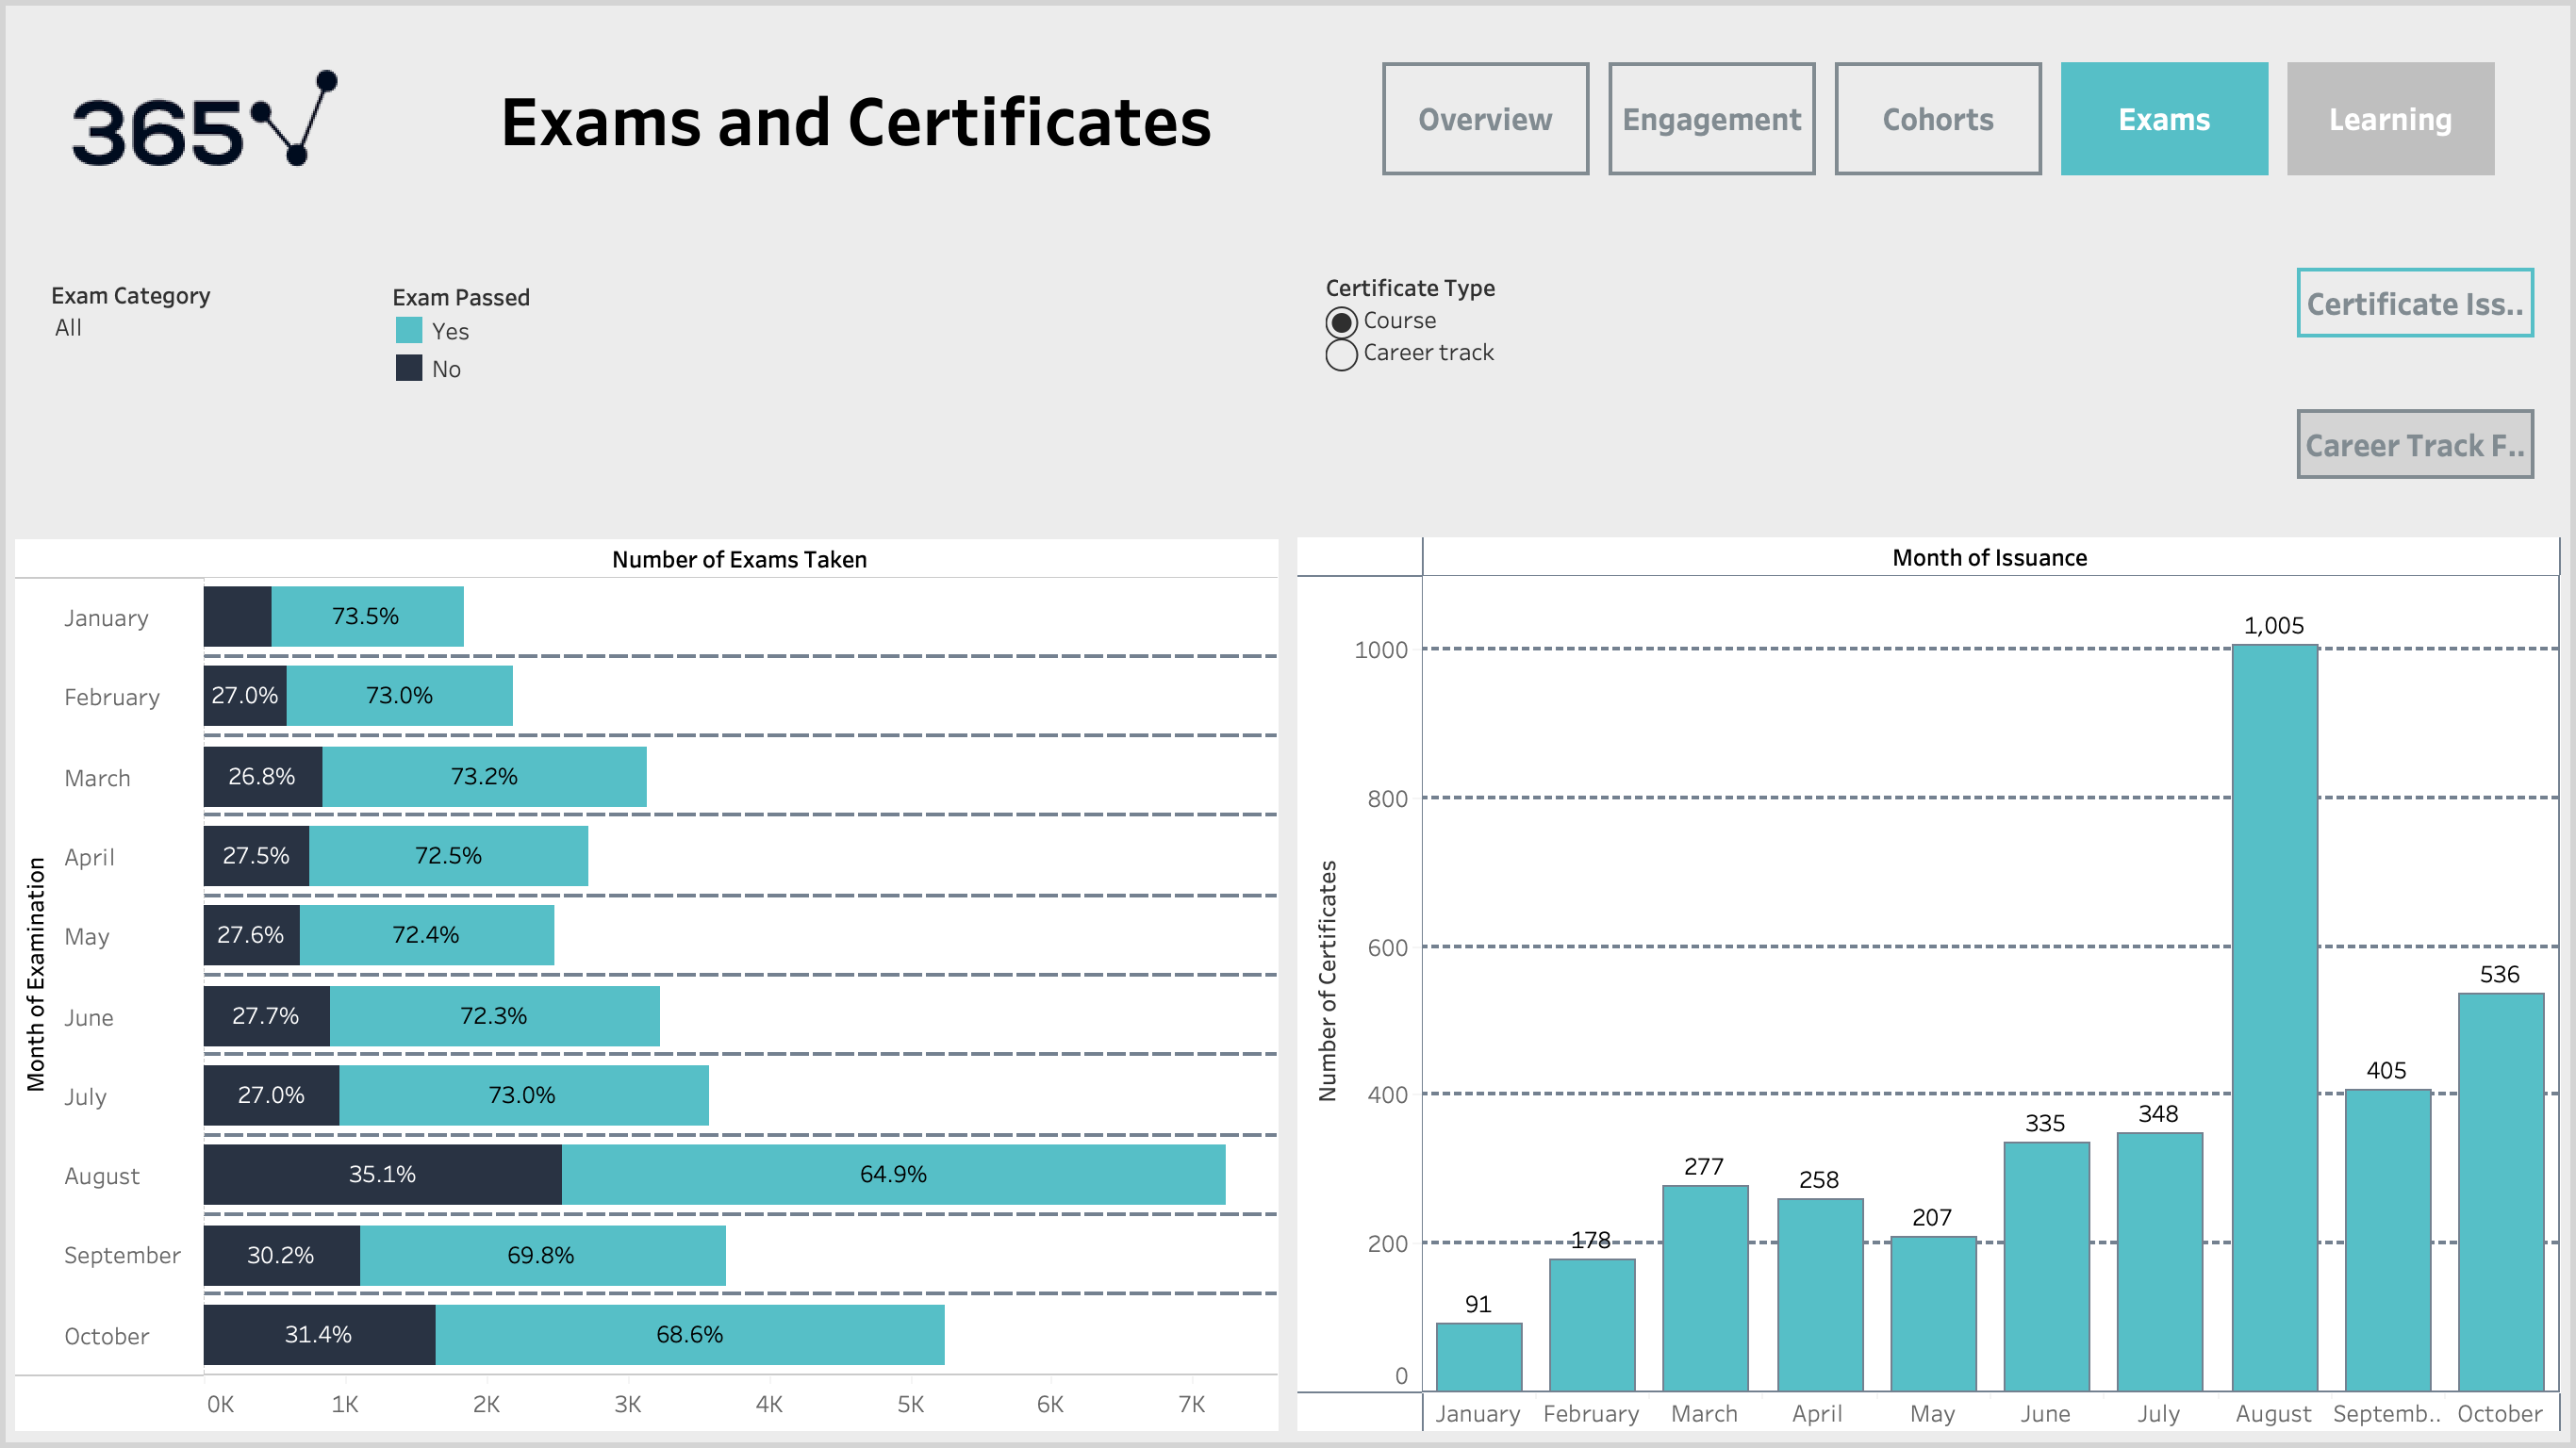

Layout of this report page (visuals, bound fields, positions):
{"tool":"tableau","page":{"name":"Exams and Certificates ","canvas":[1366,768],"ordinal":4},"visuals":[{"type":"image","param":"/Users/ayush/Downloads/images/logo.png","box":[38,28,142,70]},{"type":"text","box":[180,28,548,70]},{"type":"dashboard-object","box":[728,28,120,70]},{"type":"dashboard-object","box":[848,28,120,70]},{"type":"dashboard-object","box":[968,28,120,70]},{"type":"dashboard-object","box":[1088,28,120,70]},{"type":"dashboard-object","box":[1208,28,120,70]},{"type":"filter","title":"certificates issued ","param":"[federated.00xnfn81l9h0ge18sf6e71l0wlc1].[none:certificate_type:ok]","box":[683,123,180,150]},{"type":"blank","box":[863,123,336,150]},{"type":"dashboard-object","box":[1199,123,164,75]},{"type":"filter","title":"exam attempt","param":"[federated.1nr7plx0lf4szy11jzyjj1xi9nt0].[none:exam_category:ok]","box":[7,127,180,150]},{"type":"legend","title":"exam attempt","param":"[federated.1nr7plx0lf4szy11jzyjj1xi9nt0].[none:exam_passed:ok]","box":[187,127,200,150]},{"type":"dashboard-object","box":[1199,198,164,75]},{"type":"worksheet","title":"certificates issued ","mark":"Bar","rows":["certificate_id"],"cols":["Calculation_263882797817241615","date_issued"],"box":[683,273,680,492]},{"type":"worksheet","title":"exam attempt","mark":"Bar","rows":["Calculation_263882797798649858","date_exam_completed"],"cols":["Calculation_263882797800243206","exam_attempt_id"],"box":[3,281,680,484]}]}

Visuals, with their boxes in screenshot pixels (x1, y1, x2, y2), scaled from the page's 1366x768 canvas onto the 2576x1448 screenshot:
image: select_region(72, 53, 339, 185)
text: select_region(339, 53, 1373, 185)
dashboard-object: select_region(1373, 53, 1599, 185)
dashboard-object: select_region(1599, 53, 1825, 185)
dashboard-object: select_region(1825, 53, 2052, 185)
dashboard-object: select_region(2052, 53, 2278, 185)
dashboard-object: select_region(2278, 53, 2504, 185)
"certificates issued " filter: select_region(1288, 232, 1627, 515)
blank: select_region(1627, 232, 2261, 515)
dashboard-object: select_region(2261, 232, 2570, 373)
"exam attempt" filter: select_region(13, 239, 353, 522)
"exam attempt" legend: select_region(353, 239, 730, 522)
dashboard-object: select_region(2261, 373, 2570, 515)
"certificates issued " worksheet (Bar marks): select_region(1288, 515, 2570, 1442)
"exam attempt" worksheet (Bar marks): select_region(6, 530, 1288, 1442)
